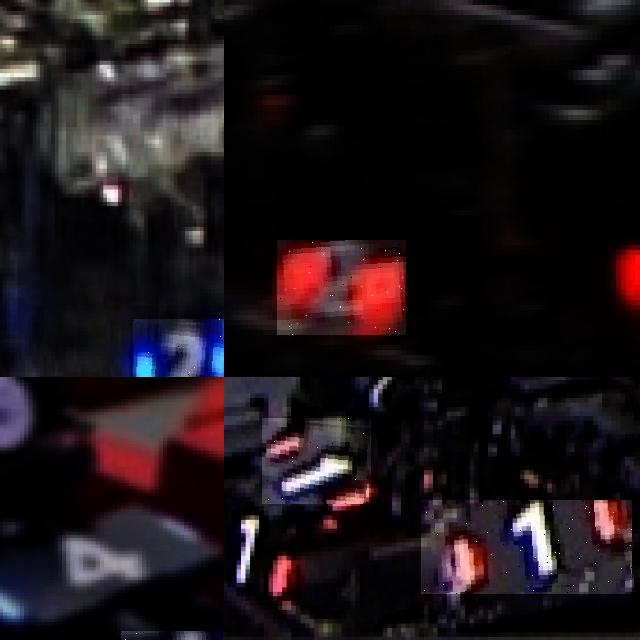B2: (133, 318, 224, 377)
B4: (0, 508, 213, 625)
R1: (421, 500, 632, 594), (262, 418, 371, 504), (224, 486, 302, 589)
R2: (277, 240, 406, 335)
